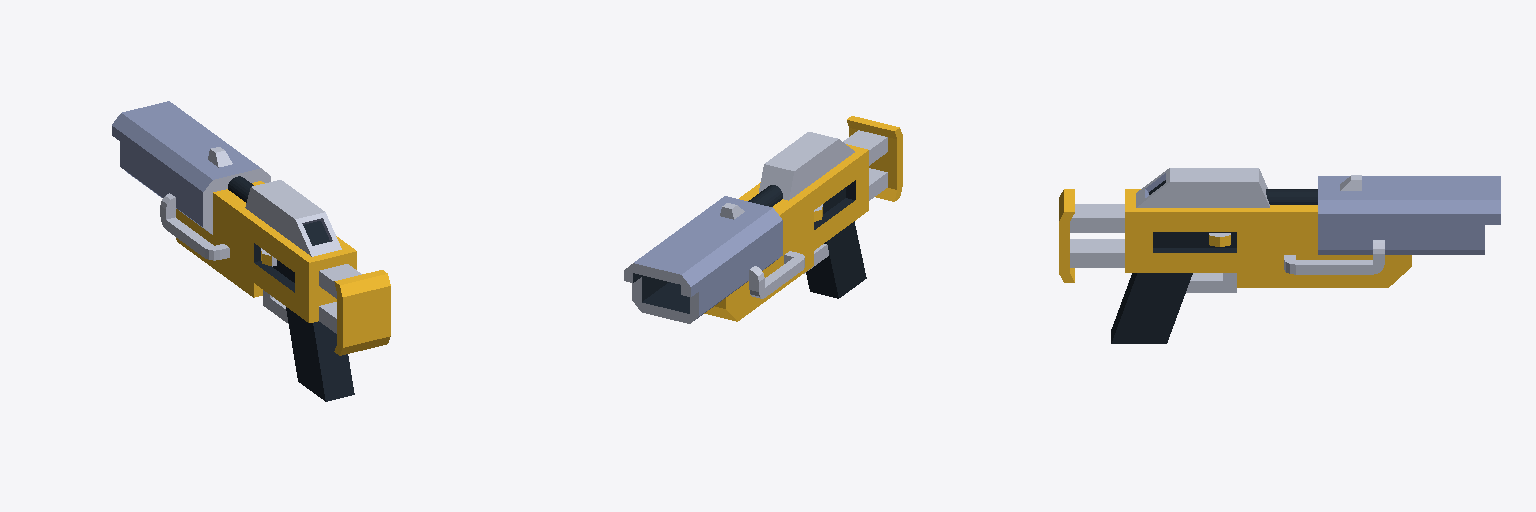
The model's file is blasterG.obj.
The picture shows the model from 3 angles: view 1: azimuth 30°, elevation 25°; view 2: azimuth 150°, elevation 25°; view 3: azimuth 270°, elevation 25°; orthographic projection.
Visible parts, largest first — view 1: blasterG; view 2: blasterG; view 3: blasterG.
Boxes of the visible parts, x1,y1,x2,y2 form: blasterG: [112, 101, 390, 401]; blasterG: [624, 116, 902, 323]; blasterG: [1059, 168, 1500, 343].
Bounding box in the file's own units: 0.18 × 0.32 × 0.7959.